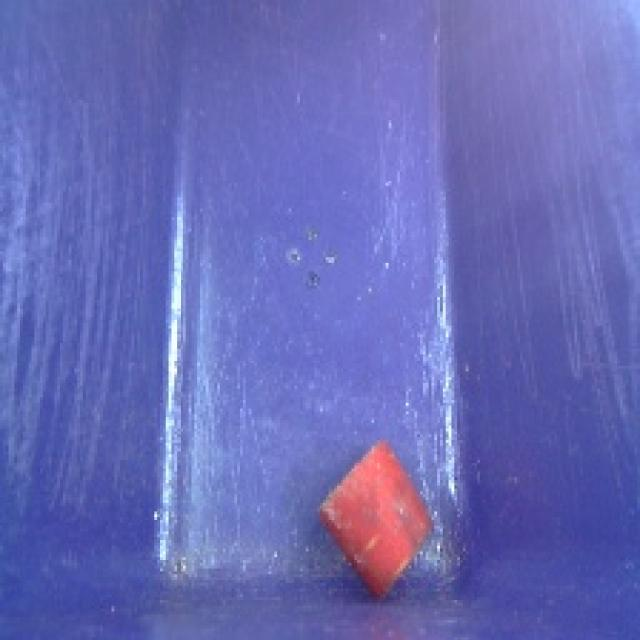carrots: (305, 433, 444, 610)
